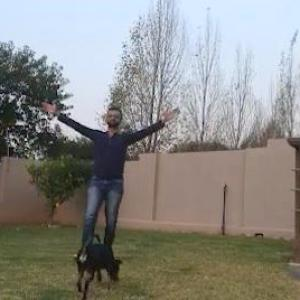takeoff: (21, 66, 182, 264)
